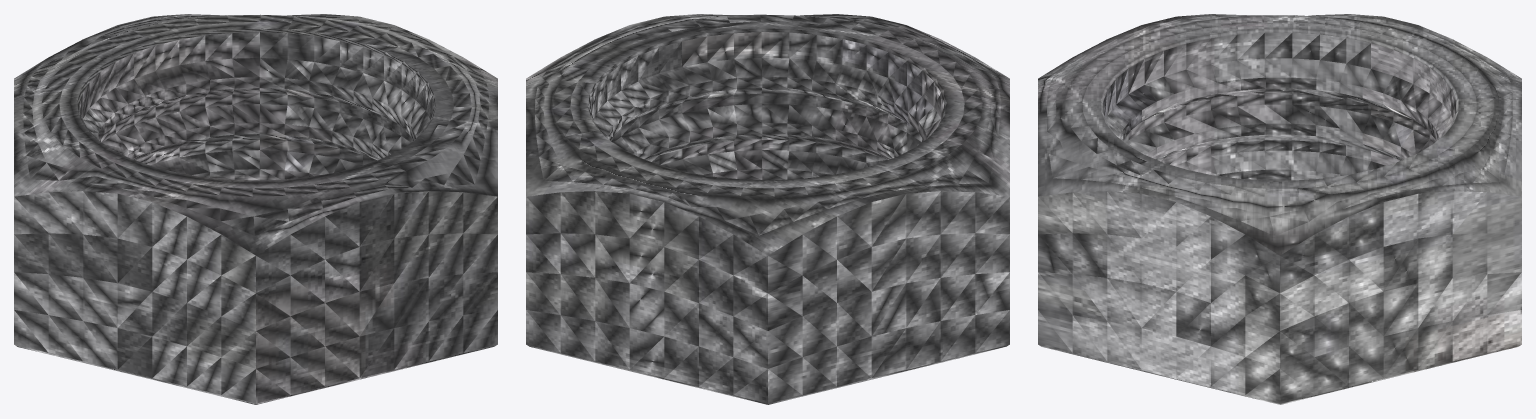
File: nutUnity.fbx
The picture shows the model from 3 angles, left to right: view 1: azimuth 30°, elevation 25°; view 2: azimuth 150°, elevation 25°; view 3: azimuth 270°, elevation 25°; orthographic projection.
Visible parts, largest first — view 1: Helix02; view 2: Helix02; view 3: Helix02.
Part boxes in pixels (<box>): Helix02: <box>14,14,497,404</box>; Helix02: <box>526,14,1009,404</box>; Helix02: <box>1038,14,1521,404</box>.
Bounding box in the file's own units: 0.6693 × 0.2432 × 0.5796.
Materials: 1 (1 with a texture image).
